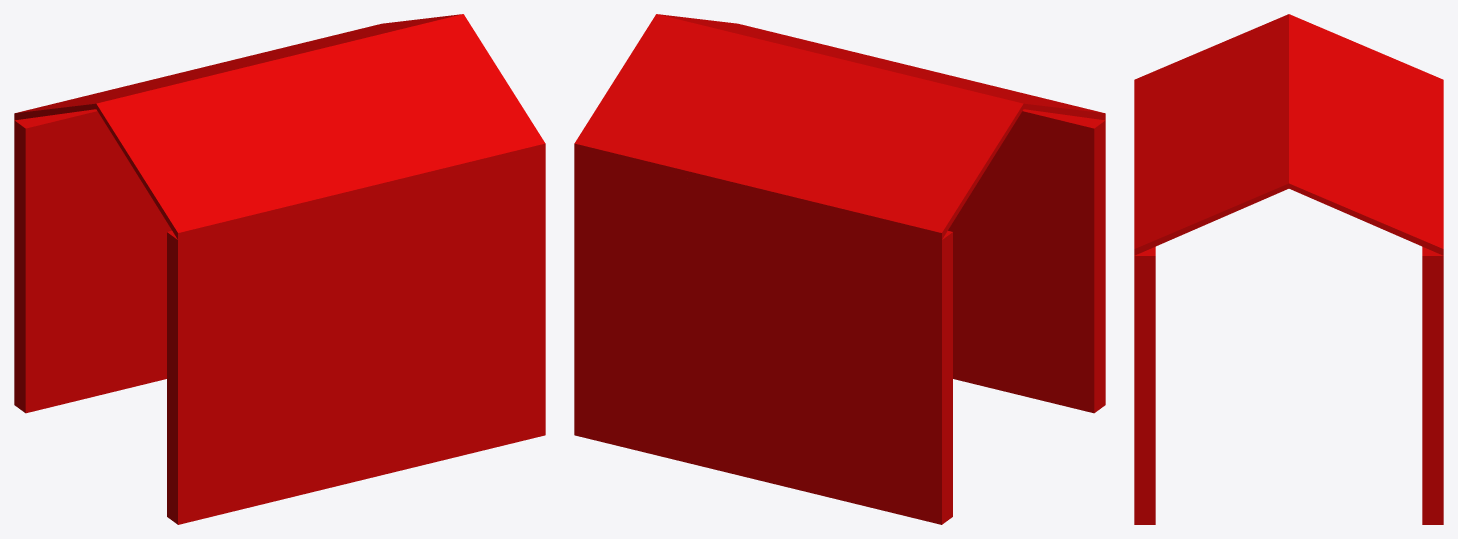
File: StraightArchedWallCollider.fbx
The picture shows the model from 3 angles, left to right: view 1: azimuth 30°, elevation 25°; view 2: azimuth 150°, elevation 25°; view 3: azimuth 270°, elevation 25°; orthographic projection. The views are drawn at different scales.
Parts seen in each view (by area): view 1: StraightArchedWallCollision; view 2: StraightArchedWallCollision; view 3: StraightArchedWallCollision.
Part boxes in pixels (x1,y1,x2,y2): StraightArchedWallCollision: (14, 14, 545, 524); StraightArchedWallCollision: (574, 14, 1105, 524); StraightArchedWallCollision: (1134, 14, 1443, 524).
Size of the model in its own units: 400 by 376 by 309.
